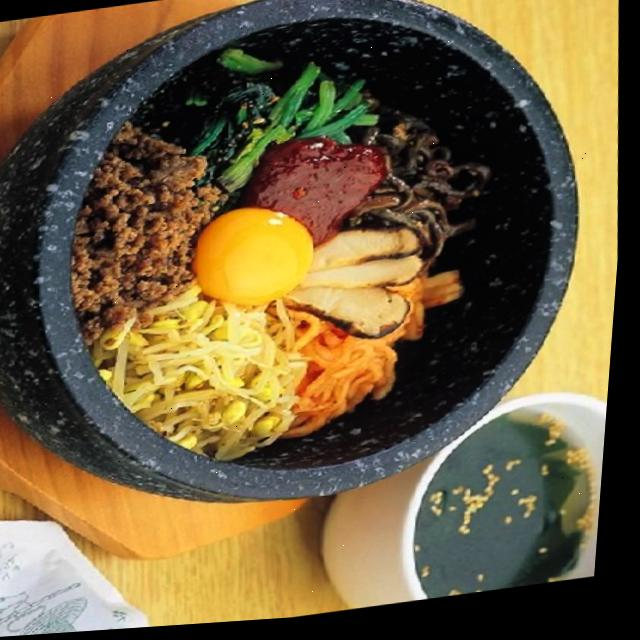汤锅炖物: (309, 387, 615, 620)
